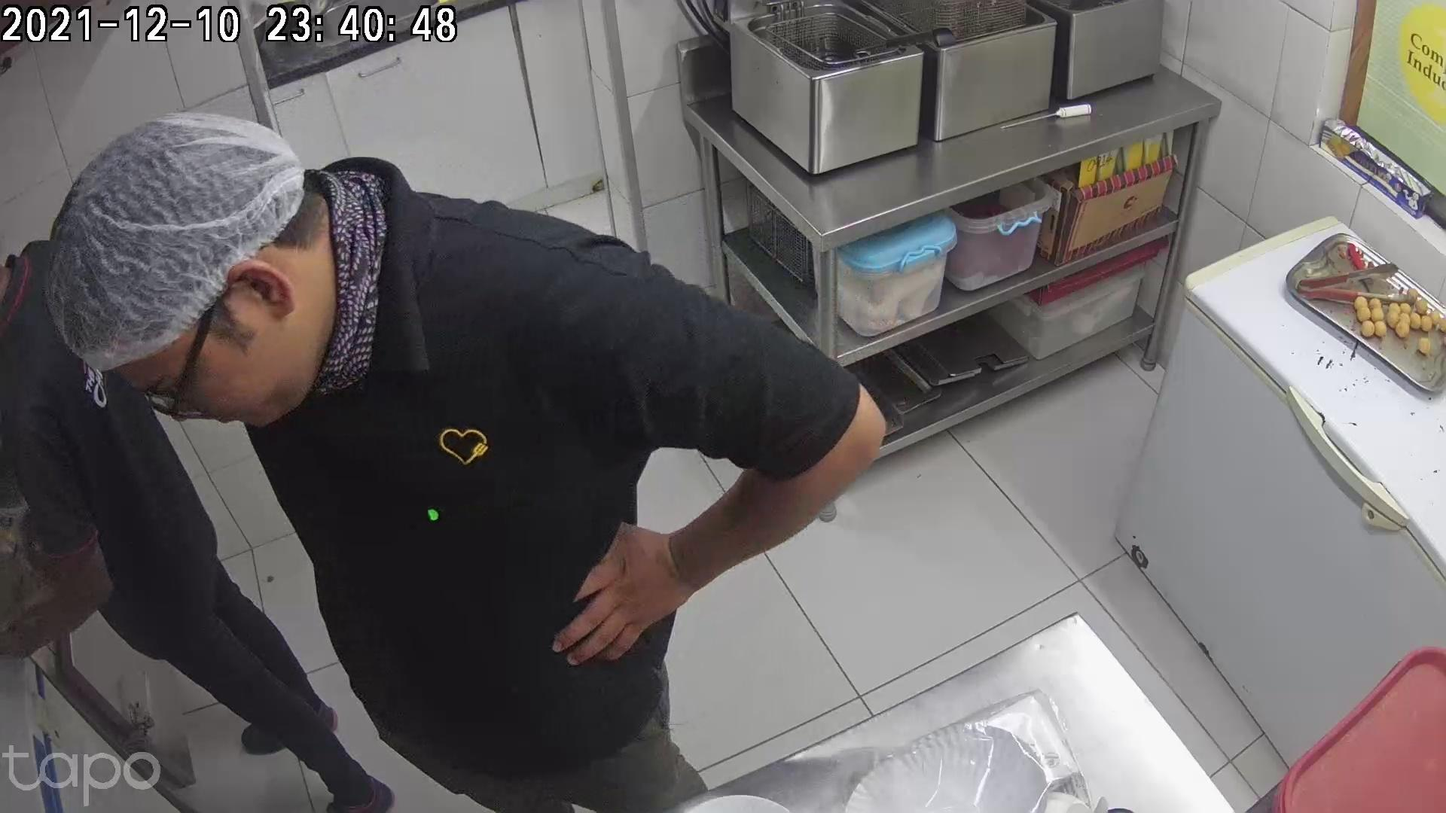no_gloves: (398, 585, 477, 718)
